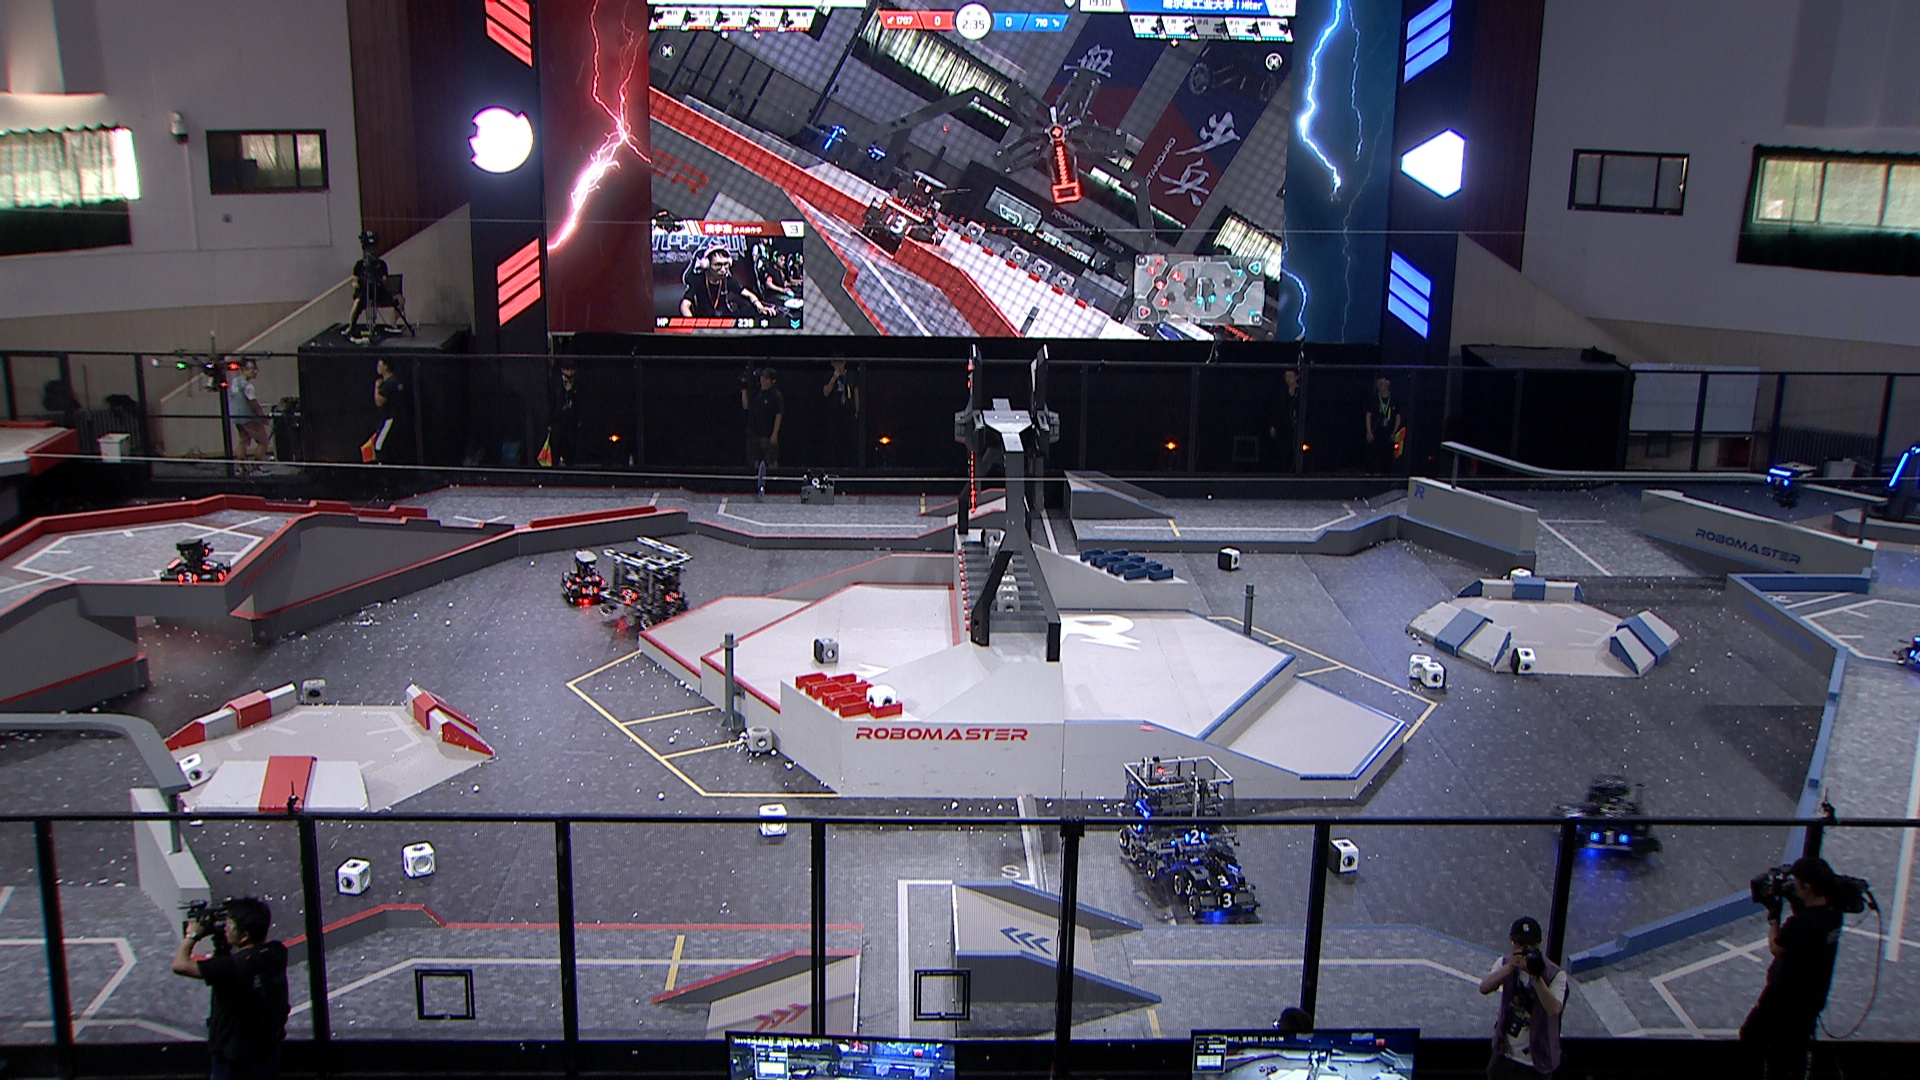armor: (1888, 451, 1911, 487), (1589, 828, 1631, 847), (1205, 873, 1242, 887), (1182, 827, 1207, 847), (1216, 891, 1240, 910), (1565, 804, 1588, 822), (1766, 475, 1792, 488), (177, 571, 200, 584), (621, 588, 640, 603), (574, 575, 603, 584), (1182, 880, 1196, 897), (582, 584, 599, 597), (1907, 647, 1920, 665), (202, 559, 220, 571), (216, 566, 231, 580), (665, 591, 680, 604)
base: (1869, 446, 1920, 527)
car: (1120, 752, 1242, 877), (1548, 769, 1665, 858), (596, 535, 698, 636), (1174, 841, 1261, 920), (158, 537, 233, 593), (560, 547, 615, 607), (1894, 611, 1920, 684)
ignore: (856, 171, 944, 256), (789, 120, 860, 173), (865, 144, 885, 164)
watcher: (1766, 463, 1813, 505)
